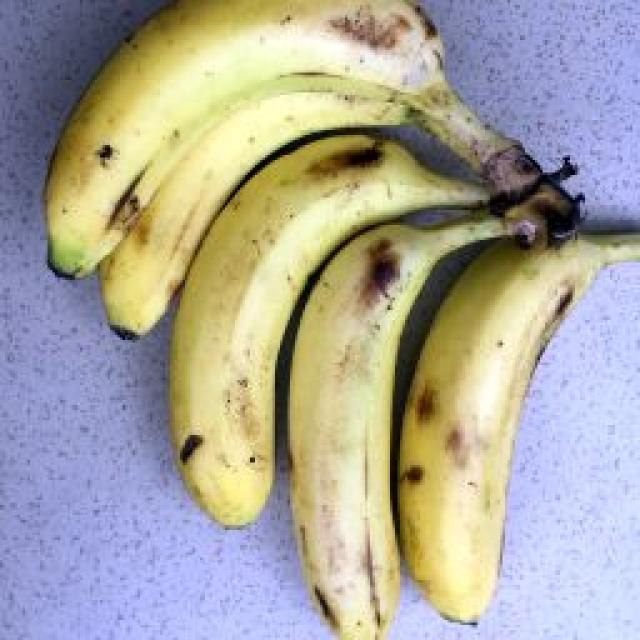banana: (86, 22, 474, 516)
